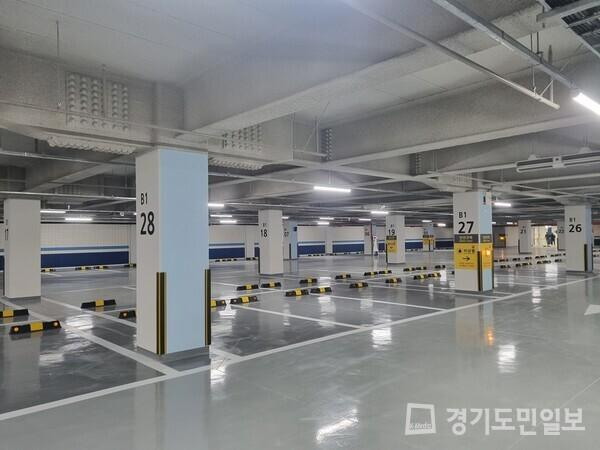empty: (0, 327, 165, 414), (181, 299, 340, 364), (245, 293, 441, 330), (334, 284, 504, 315)
